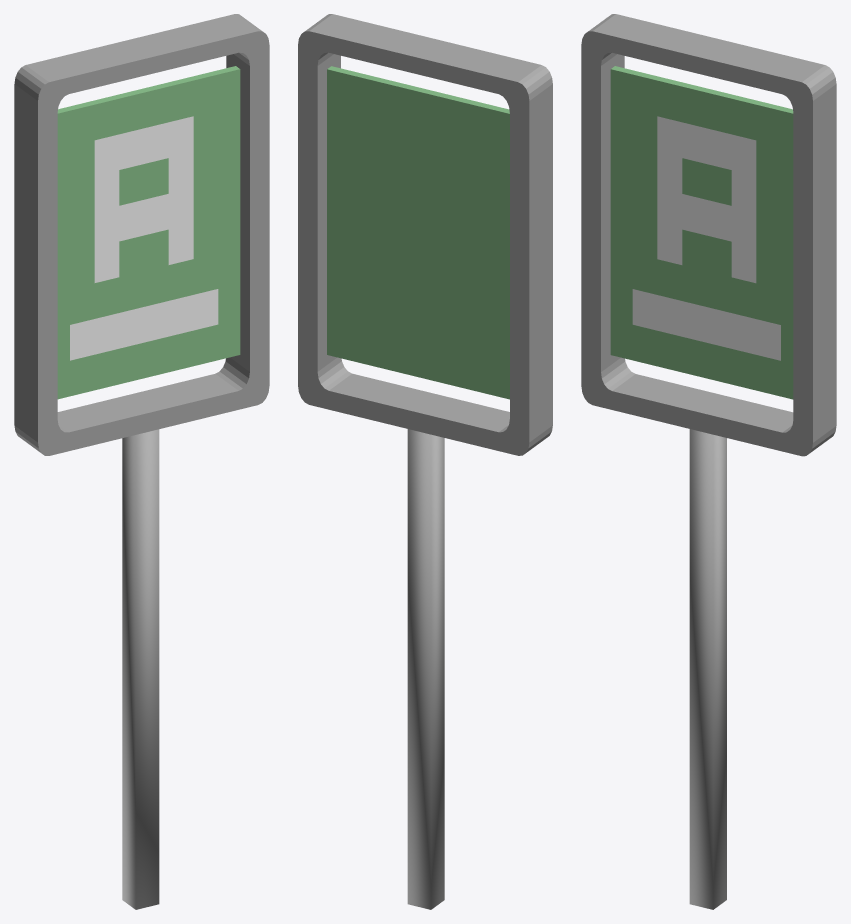
Rendered from BusStop.fbx.
3 views of the same model, side by side, from view 1: azimuth 30°, elevation 25°; view 2: azimuth 150°, elevation 25°; view 3: azimuth 330°, elevation 25° (orthographic).
Parts seen in each view (by area): view 1: busStop; view 2: busStop; view 3: busStop.
Part boxes in pixels (<box>): busStop: <box>14,14,269,909</box>; busStop: <box>298,14,552,909</box>; busStop: <box>581,14,836,909</box>.
Bounding box in the file's own units: 4.6 × 16.22 × 0.8099.
